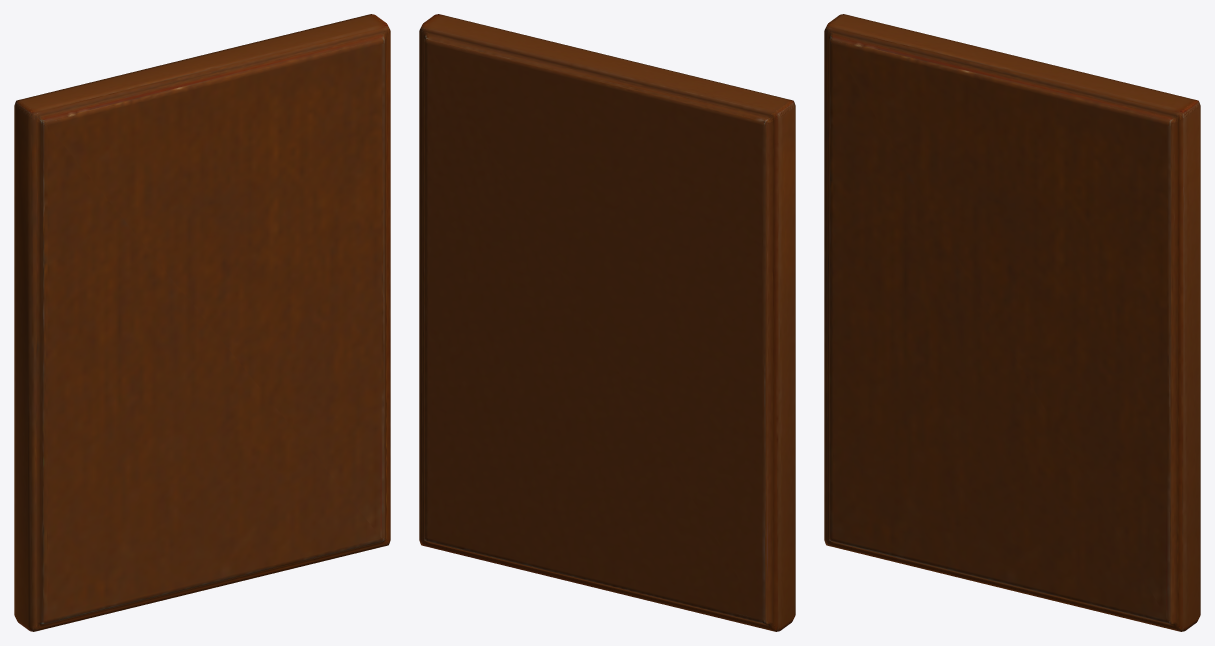
The model's file is stage4_sink_drawer_door.fbx.
The picture shows the model from 3 angles, left to right: view 1: azimuth 30°, elevation 25°; view 2: azimuth 150°, elevation 25°; view 3: azimuth 330°, elevation 25°; orthographic projection.
Visible parts, largest first — view 1: stage4_sink_drawer_door; view 2: stage4_sink_drawer_door; view 3: stage4_sink_drawer_door.
Boxes of the visible parts, left/top/right/bottom form: stage4_sink_drawer_door: left=14, top=14, right=390, bottom=631; stage4_sink_drawer_door: left=419, top=14, right=795, bottom=631; stage4_sink_drawer_door: left=824, top=14, right=1200, bottom=631.
Bounding box in the file's own units: 45.24 × 62.33 × 5.25.
